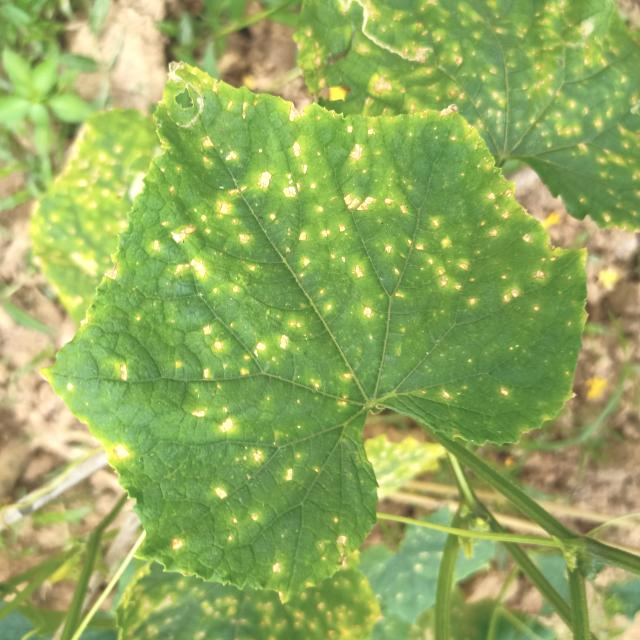disease_cucumber: (87, 90, 585, 386), (167, 390, 351, 572), (110, 443, 131, 462)
